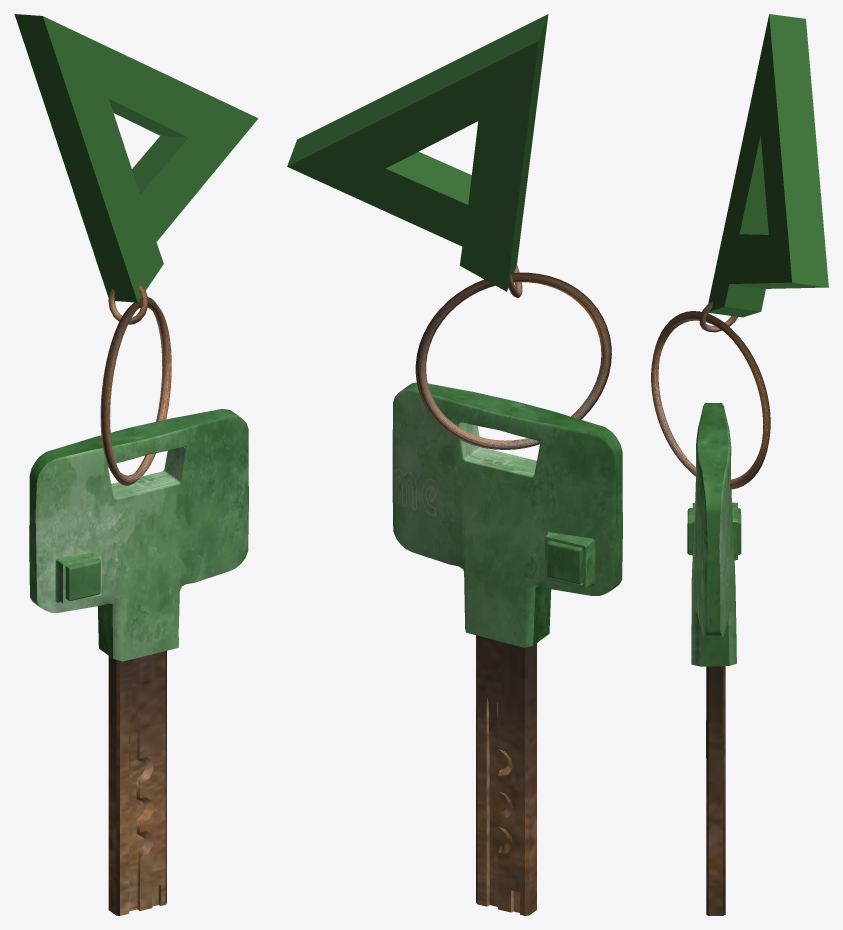
The model's file is llave3.obj.
3 views of the same model, side by side, from view 1: azimuth 30°, elevation 25°; view 2: azimuth 150°, elevation 25°; view 3: azimuth 270°, elevation 25° (orthographic). The views are drawn at different scales.
Parts seen in each view (by area): view 1: Torus002; view 2: Torus002; view 3: Torus002.
Boxes of the visible parts, x1=… form: Torus002: x1=14, y1=14, x2=258, y2=915; Torus002: x1=287, y1=14, x2=622, y2=915; Torus002: x1=651, y1=14, x2=828, y2=915.
Bounding box in the file's own units: 0.0649 × 0.2063 × 0.0387.
Materials: 4 (4 with a texture image).
